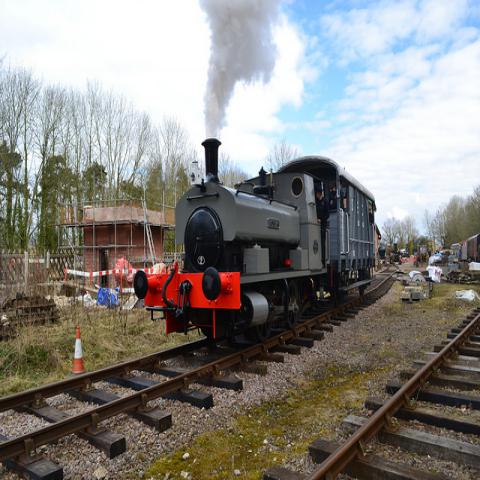car: (430, 254, 443, 265), (422, 270, 430, 284), (401, 250, 407, 256)
